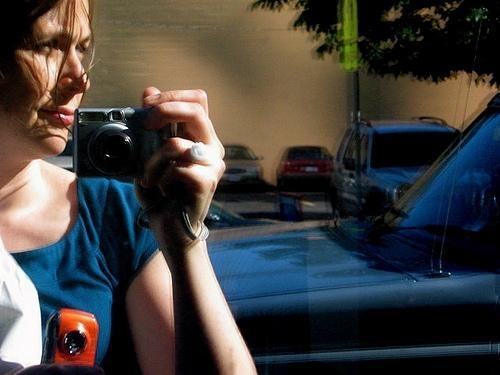car: (204, 88, 500, 374), (321, 116, 462, 221), (271, 144, 332, 188), (222, 144, 266, 178)
